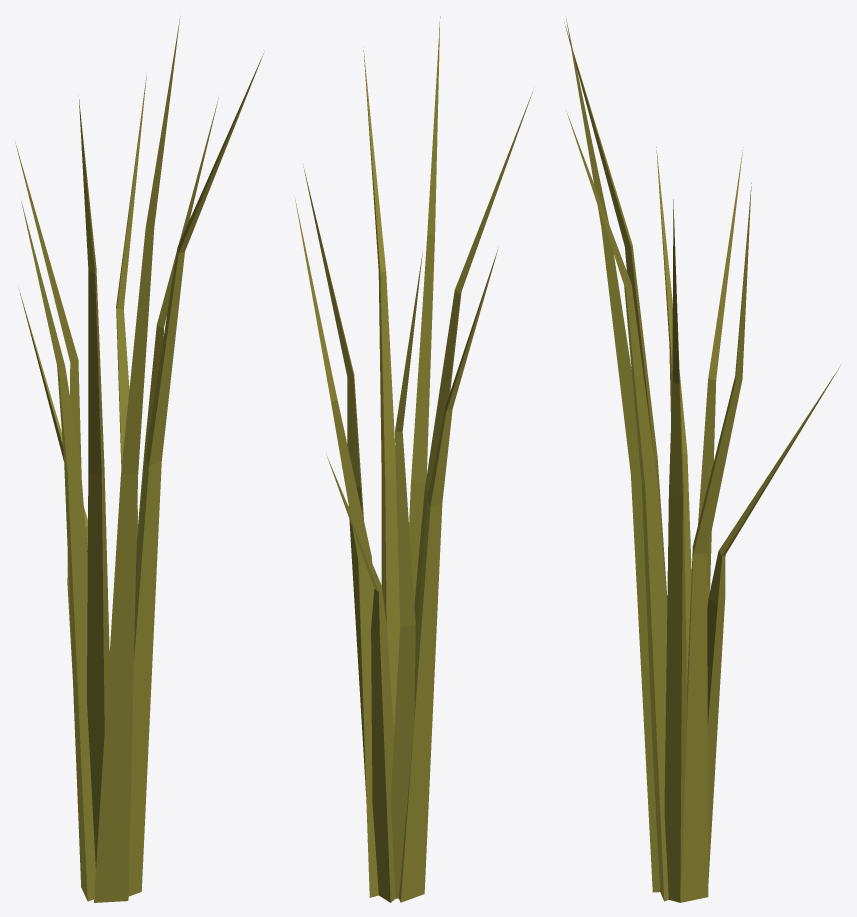
File: Grass_7_Yellow.fbx
The picture shows the model from 3 angles, left to right: view 1: azimuth 30°, elevation 25°; view 2: azimuth 150°, elevation 25°; view 3: azimuth 270°, elevation 25°; orthographic projection. The views are drawn at different scales.
Visible parts, largest first — view 1: Grass_7_Yellow; view 2: Grass_7_Yellow; view 3: Grass_7_Yellow.
Boxes of the visible parts, x1,y1,x2,y2 form: Grass_7_Yellow: [15, 16, 263, 902]; Grass_7_Yellow: [295, 16, 532, 902]; Grass_7_Yellow: [564, 17, 840, 902].
Size of the model in its own units: 23.91 by 101 by 28.97.
